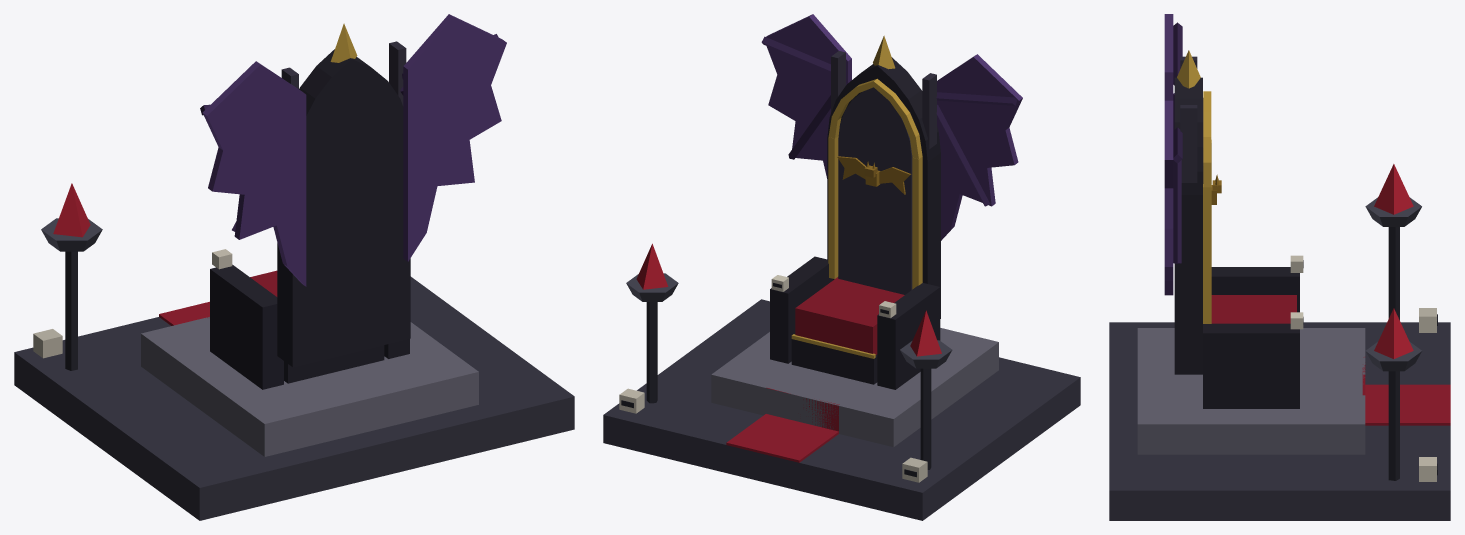
Rendered from Decor_VampireCrypt_Throne.fbx.
3 views of the same model, side by side, from view 1: azimuth 30°, elevation 25°; view 2: azimuth 150°, elevation 25°; view 3: azimuth 270°, elevation 25° (orthographic). The views are drawn at different scales.
Parts seen in each view (by area): view 1: Throne_Body; view 2: Throne_Body; view 3: Throne_Body.
Boxes of the visible parts, x1=… form: Throne_Body: x1=14, y1=14, x2=574, y2=520; Throne_Body: x1=603, y1=14, x2=1080, y2=520; Throne_Body: x1=1109, y1=14, x2=1450, y2=520.
Size of the model in its own units: 14 by 15 by 12.
